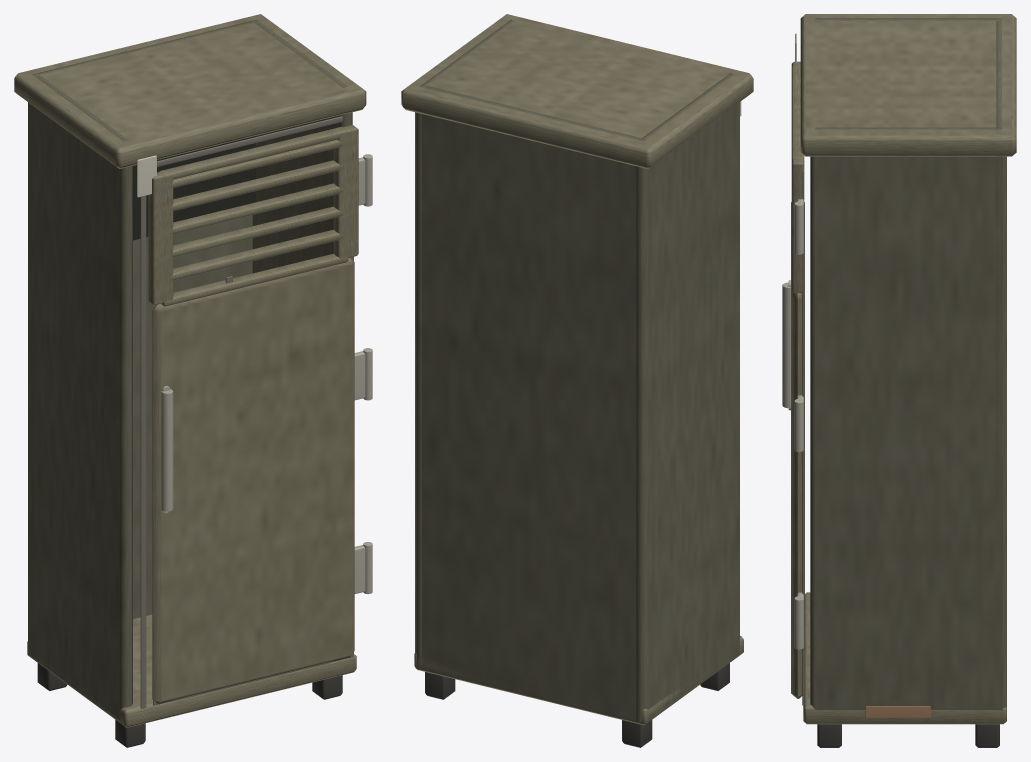
File: HideLocker_A.glb
The picture shows the model from 3 angles, left to right: view 1: azimuth 30°, elevation 25°; view 2: azimuth 150°, elevation 25°; view 3: azimuth 270°, elevation 25°; orthographic projection.
Parts seen in each view (by area): view 1: HideLocker_A_front_door_one_piece_panel, HideLocker_A_left_side_panel, HideLocker_A_top_cap, HideLocker_A_back_panel, HideLocker_A_right_side_panel, HideLocker_A_bottom_frame, HideLocker_A_front_door_left_seam, HideLocker_A_inner_dark_back_seen_through_slits, HideLocker_A_upper_slit_left_stile, HideLocker_A_upper_slit_right_stile, HideLocker_A_view_slit_top_rail, HideLocker_A_view_slit_bottom_rail (+9 smaller); view 2: HideLocker_A_back_panel, HideLocker_A_left_side_panel, HideLocker_A_top_cap, HideLocker_A_right_side_panel, HideLocker_A_bottom_frame, HideLocker_A_recessed_foot_-0.33_0.225, HideLocker_A_recessed_foot_0.33_0.225; view 3: HideLocker_A_right_side_panel, HideLocker_A_top_cap, HideLocker_A_front_door_one_piece_panel, HideLocker_A_bottom_frame, HideLocker_A_back_panel, HideLocker_A_front_door_right_seam, HideLocker_A_upper_slit_right_stile, HideLocker_A_front_pull_vertical_grip, HideLocker_A_view_slit_top_rail, HideLocker_A_side_floor_rust, HideLocker_A_recessed_foot_0.33_-0.225, HideLocker_A_recessed_foot_0.33_0.225 (+4 smaller).
Boxes of the visible parts, bbox=[...] form: HideLocker_A_front_door_one_piece_panel: bbox=[152, 258, 354, 704]; HideLocker_A_left_side_panel: bbox=[28, 73, 132, 719]; HideLocker_A_top_cap: bbox=[14, 14, 366, 168]; HideLocker_A_back_panel: bbox=[32, 19, 258, 618]; HideLocker_A_right_side_panel: bbox=[252, 21, 352, 273]; HideLocker_A_bottom_frame: bbox=[27, 614, 356, 727]; HideLocker_A_front_door_left_seam: bbox=[140, 195, 146, 708]; HideLocker_A_inner_dark_back_seen_through_slits: bbox=[133, 136, 255, 240]; HideLocker_A_upper_slit_left_stile: bbox=[148, 172, 173, 305]; HideLocker_A_upper_slit_right_stile: bbox=[333, 125, 358, 258]; HideLocker_A_view_slit_top_rail: bbox=[159, 126, 347, 180]; HideLocker_A_view_slit_bottom_rail: bbox=[161, 253, 348, 306]; HideLocker_A_back_panel: bbox=[417, 86, 650, 720]; HideLocker_A_left_side_panel: bbox=[636, 73, 739, 721]; HideLocker_A_top_cap: bbox=[401, 14, 753, 168]; HideLocker_A_right_side_panel: bbox=[415, 19, 515, 666]; HideLocker_A_bottom_frame: bbox=[414, 635, 743, 725]; HideLocker_A_recessed_foot_-0.33_0.225: bbox=[622, 720, 652, 747]; HideLocker_A_recessed_foot_0.33_0.225: bbox=[425, 672, 455, 699]; HideLocker_A_right_side_panel: bbox=[810, 127, 1006, 709]; HideLocker_A_top_cap: bbox=[800, 14, 1016, 156]; HideLocker_A_front_door_one_piece_panel: bbox=[791, 202, 804, 698]; HideLocker_A_bottom_frame: bbox=[803, 592, 1006, 724]; HideLocker_A_back_panel: bbox=[996, 18, 1001, 573]; HideLocker_A_front_door_right_seam: bbox=[802, 170, 804, 705]; HideLocker_A_upper_slit_right_stile: bbox=[791, 157, 804, 292]; HideLocker_A_front_pull_vertical_grip: bbox=[782, 282, 790, 408]; HideLocker_A_view_slit_top_rail: bbox=[791, 66, 804, 158]; HideLocker_A_side_floor_rust: bbox=[865, 706, 930, 717]; HideLocker_A_recessed_foot_0.33_-0.225: bbox=[817, 724, 841, 747]; HideLocker_A_recessed_foot_0.33_0.225: bbox=[975, 724, 999, 747].
Size of the model in its own units: 0.849 by 1.95 by 0.6675.
Materials: 8 (2 with a texture image).
